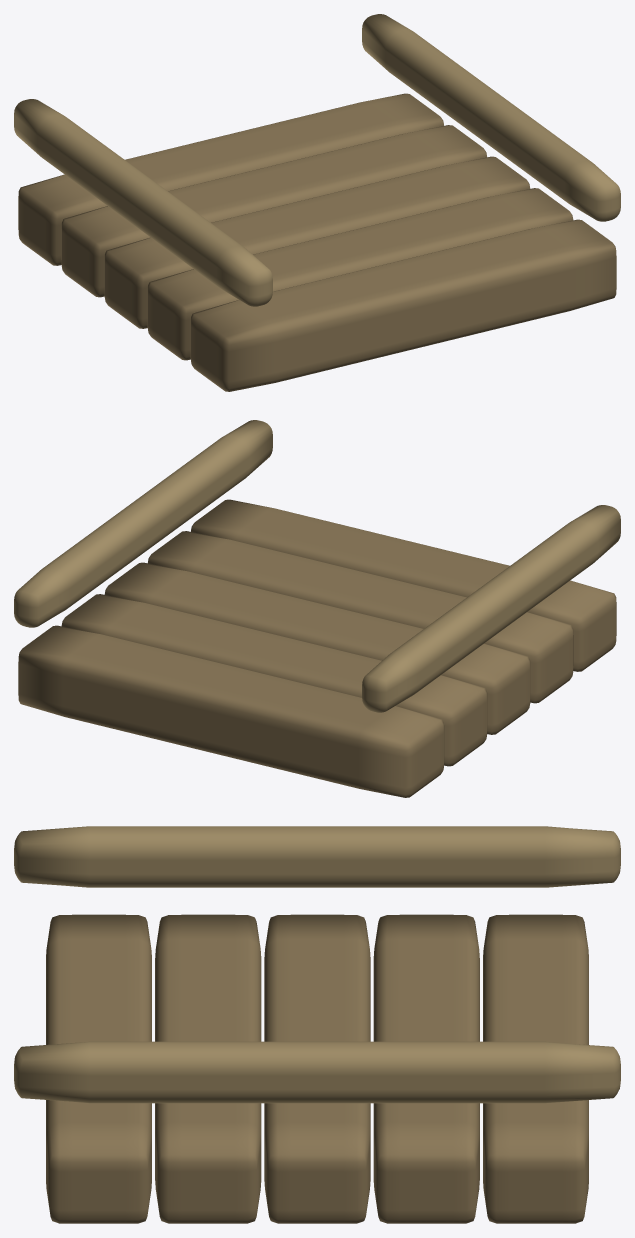
Rendered from bridge.glb.
3 views of the same model, one above another, from view 1: azimuth 30°, elevation 25°; view 2: azimuth 150°, elevation 25°; view 3: azimuth 270°, elevation 25° (orthographic). The views are drawn at different scales.
Parts seen in each view (by area): view 1: plank4, rail (×2), plank3, plank2, plank0, plank1; view 2: plank0, rail (×2), plank1, plank2, plank4, plank3; view 3: rail (×2), plank2, plank1, plank3, plank0, plank4.
Boxes of the visible parts, box(x1,y1,x2,y2) form: plank4: box(190, 219, 616, 391); rail (×2): box(14, 14, 620, 306); plank3: box(147, 188, 573, 360); plank2: box(104, 156, 530, 328); plank0: box(18, 93, 443, 265); plank1: box(61, 125, 486, 297); plank0: box(18, 625, 444, 797); rail (×2): box(14, 420, 620, 712); plank1: box(61, 594, 487, 766); plank2: box(104, 562, 530, 734); plank4: box(191, 499, 616, 671); plank3: box(148, 531, 573, 703); rail (×2): box(14, 826, 620, 1103); plank2: box(264, 914, 370, 1223); plank1: box(373, 914, 479, 1223); plank3: box(155, 914, 261, 1223); plank0: box(483, 914, 588, 1223); plank4: box(46, 914, 151, 1223).
Bounding box in the file's own units: 0.95 × 0.31 × 1.
